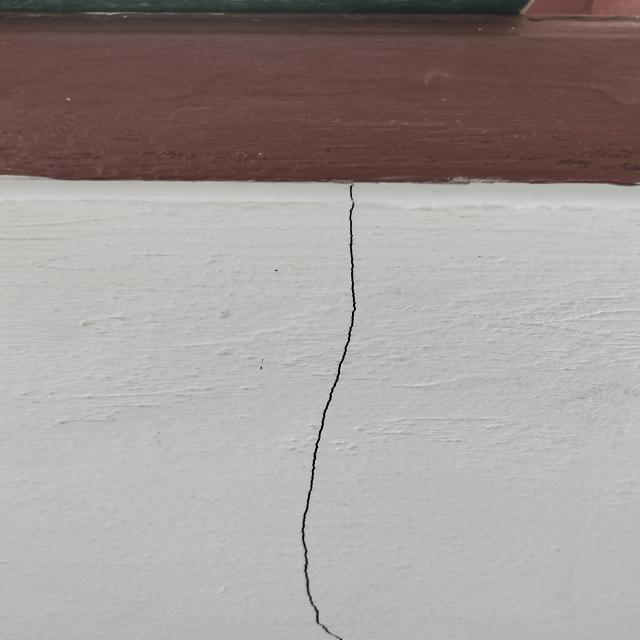Crack: (286, 192, 366, 637)
